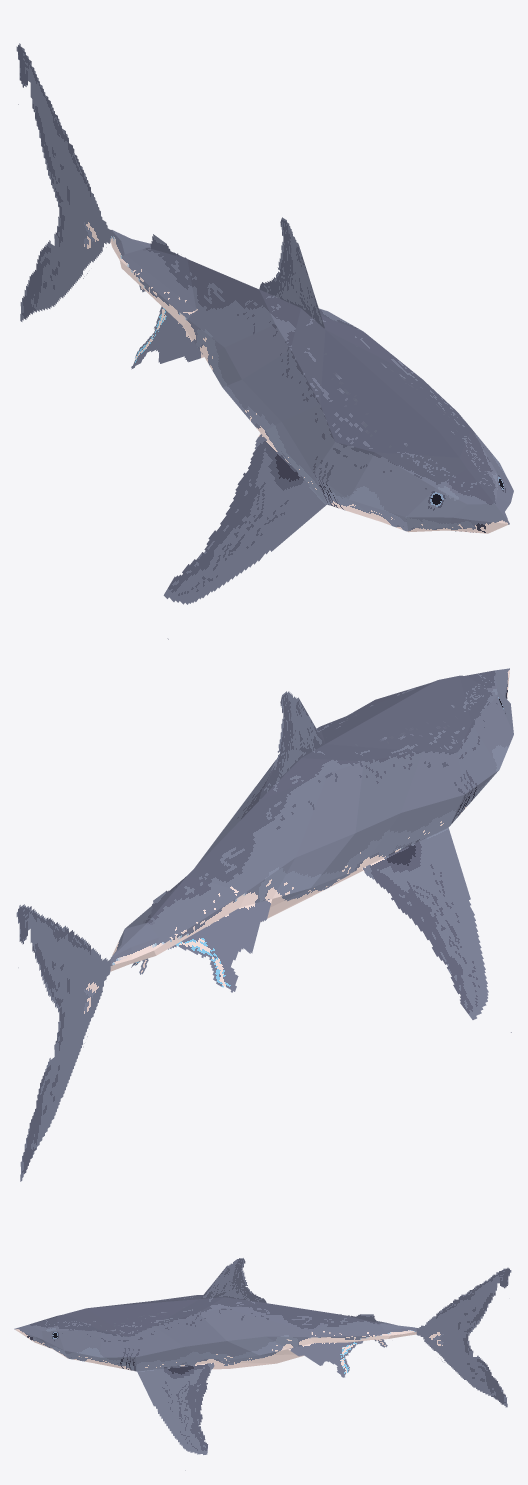
The model's file is shork.gltf.
The picture shows the model from 3 angles, top to bottom: view 1: azimuth 30°, elevation 25°; view 2: azimuth 150°, elevation 25°; view 3: azimuth 270°, elevation 25°; orthographic projection. The views are drawn at different scales.
Parts seen in each view (by area): view 1: Cube; view 2: Cube; view 3: Cube.
Boxes of the visible parts, box(x1,y1,x2,y2) form: Cube: box(16, 43, 513, 639); Cube: box(16, 668, 513, 1181); Cube: box(14, 1258, 511, 1470).
Size of the model in its own units: 1.57 by 1.51 by 3.93.
Materials: 1 (1 with a texture image).
